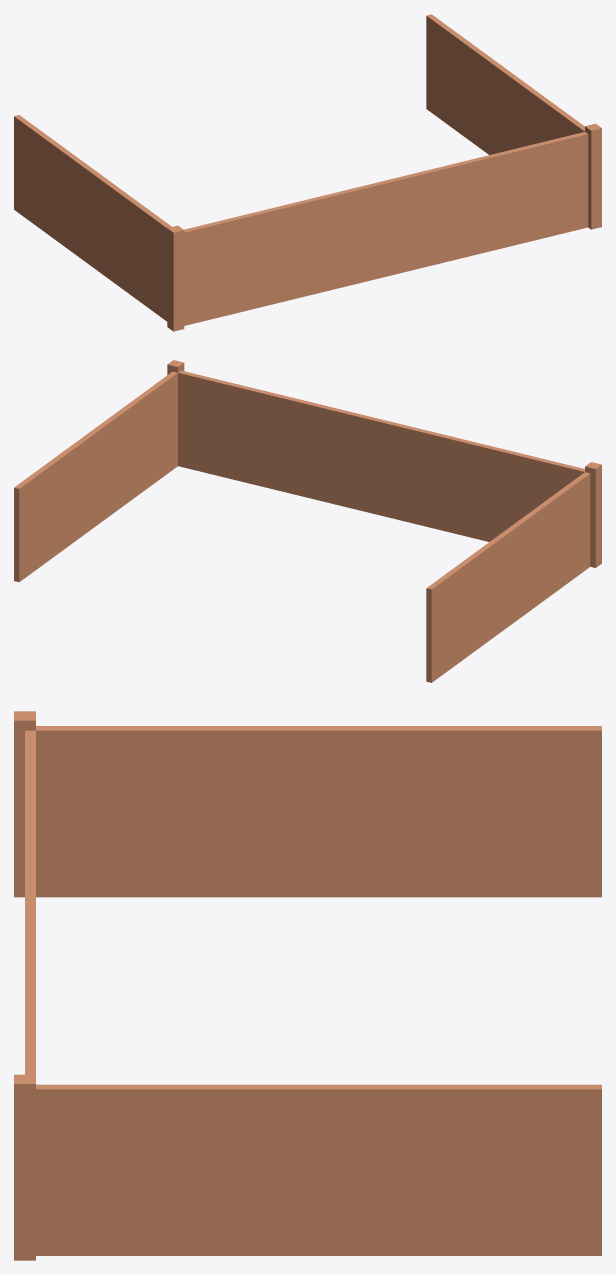
The model's file is fence_rectangle.fbx.
The picture shows the model from 3 angles, top to bottom: view 1: azimuth 30°, elevation 25°; view 2: azimuth 150°, elevation 25°; view 3: azimuth 270°, elevation 25°; orthographic projection. The views are drawn at different scales.
Visible parts, largest first — view 1: fence_rectangle; view 2: fence_rectangle; view 3: fence_rectangle.
Part boxes in pixels (<box>): fence_rectangle: <box>14,14,601,331</box>; fence_rectangle: <box>14,360,601,682</box>; fence_rectangle: <box>14,711,601,1260</box>.
Bounding box in the file's own units: 12 × 2.65 × 8.
